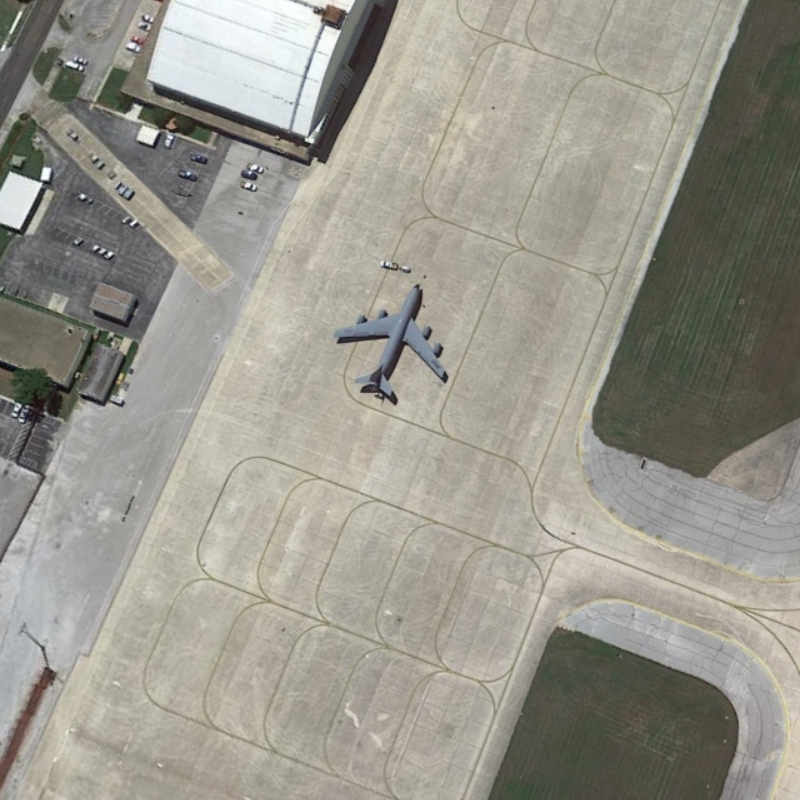A14: (330, 265, 457, 404)
